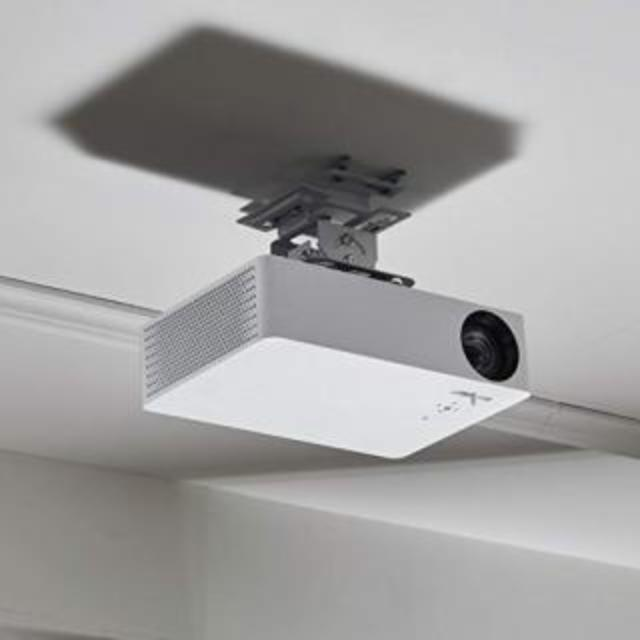Projector: (138, 174, 528, 462)
